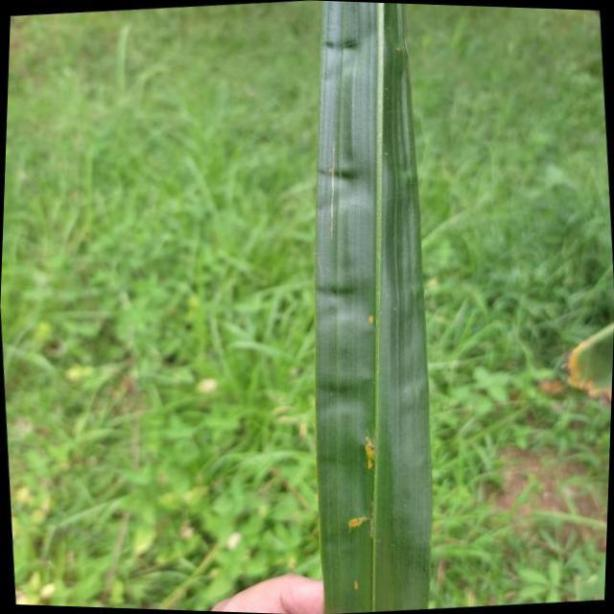Boron: (315, 0, 437, 614)
